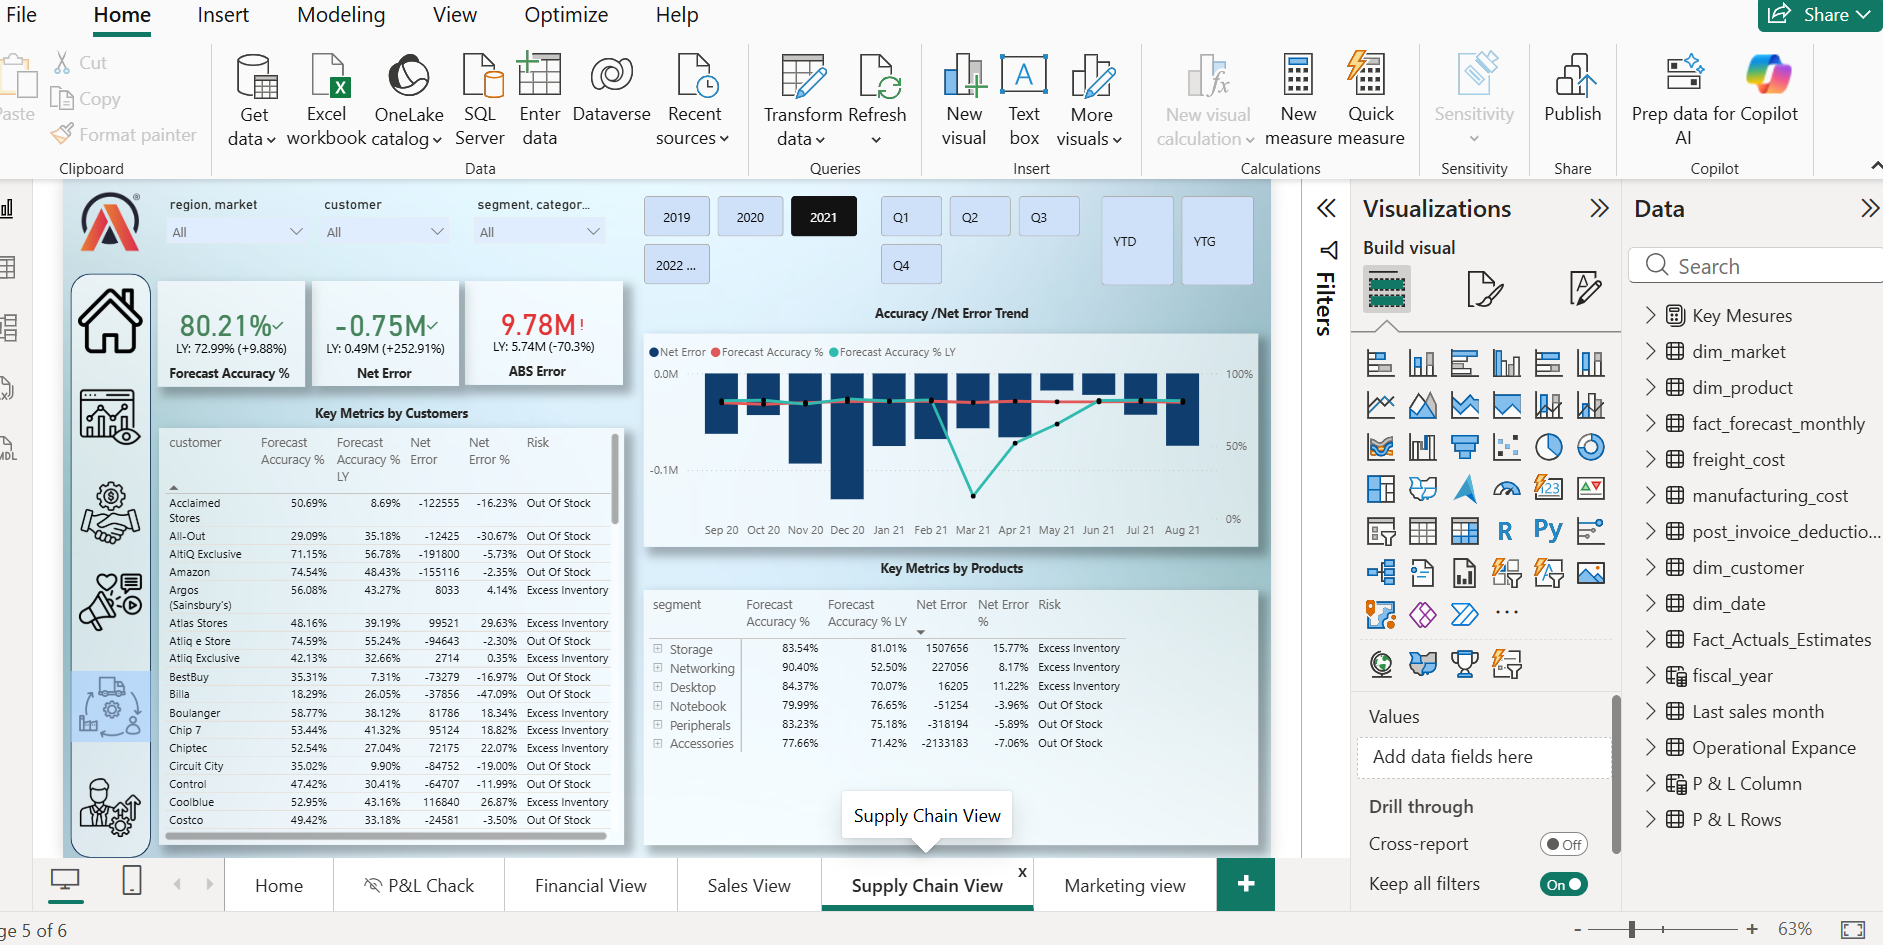

The dashboard page shown, as its layout file describes it:
{"tool":"powerbi","page":{"name":"Supply Chain View","canvas":[1280,720],"ordinal":4},"visuals":[{"type":"advancedSlicerVisual","fields":{"Values":["fiscal_year.FY Desc"]},"box":[610.8,12.7,237,105],"z":0},{"type":"advancedSlicerVisual","fields":{"Values":["dim_date.Quarter"]},"box":[861.7,12.7,223.3,105],"z":1000},{"type":"advancedSlicerVisual","fields":{"Values":["dim_date.YTD_YTG"]},"box":[1096.6,13.6,172.9,50.8],"z":2000},{"type":"textbox","box":[101.8,233.8,493.1,38.2],"z":3000},{"type":"slicer","fields":{"Values":[" dim_market.region"," dim_market.market"]},"box":[100.8,12.7,169.6,65.6],"z":4000},{"type":"slicer","fields":{"Values":[" dim_product.segment"," dim_product.category"," dim_product.product"]},"box":[425.6,12.7,158.4,65.6],"z":5000},{"type":"slicer","fields":{"Values":["dim_customer.customer"]},"box":[264,12.7,155.2,65.6],"z":6000},{"type":"kpi","fields":{"Goal":["Key Mesures.Forecast Accuracy % LY"],"Indicator":["Key Mesures.Forecast Accuracy %"],"TrendLine":[" freight_cost.fiscal_year"]},"box":[100,108.3,156.7,111.7],"z":7000},{"type":"textbox","box":[100.2,190.9,155.9,28.6],"z":8000},{"type":"kpi","fields":{"Goal":["Key Mesures.Net Error LY"],"Indicator":["Key Mesures.Net Error"],"TrendLine":[" freight_cost.fiscal_year"]},"box":[264,108.2,155.9,111.3],"z":9000},{"type":"kpi","fields":{"Goal":["Key Mesures.ABS error LY"],"Indicator":["Key Mesures.ABS Error"],"TrendLine":[" freight_cost.fiscal_year"]},"box":[426.3,108.2,167,109.8],"z":10000},{"type":"textbox","box":[263.3,191.7,156.7,28.3],"z":11000},{"type":"textbox","box":[426.7,190,156.7,28.3],"z":12000},{"type":"shape","box":[8.2,100,85.2,619.7],"z":13000},{"type":"image","box":[8.2,13.1,85.2,63.9],"z":14000},{"type":"image","box":[16.4,213.1,68.9,78.7],"z":15000},{"type":"image","box":[16.4,116.4,68.9,68.9],"z":16000},{"type":"image","box":[16.4,411.5,68.9,73.8],"z":17000},{"type":"image","box":[16.4,318,68.9,72.1],"z":18000},{"type":"image","box":[16.4,521.3,68.9,77],"z":19000},{"type":"image","box":[16.4,627.9,68.9,77],"z":20000},{"type":"shape","box":[8,521.7,85.2,75.4],"z":21000},{"type":"tableEx","fields":{"Values":["dim_customer.customer","Key Mesures.Forecast Accuracy %","Key Mesures.Forecast Accuracy % LY","Key Mesures.Net Error","Key Mesures.Net Error %","Key Mesures.Risk"]},"box":[101.8,264,493.1,442.2],"z":22000},{"type":"lineClusteredColumnComboChart","fields":{"Category":["dim_date.Month"],"Y":["Key Mesures.Net Error"],"Y2":["Key Mesures.Forecast Accuracy %","Key Mesures.Forecast Accuracy % LY"]},"box":[615.6,163.8,652.2,225.9],"z":23000},{"type":"pivotTable","fields":{"Rows":[" dim_product.segment"," dim_product.category"," dim_product.product"],"Values":["Key Mesures.Forecast Accuracy %","Key Mesures.Forecast Accuracy % LY","Key Mesures.Net Error","Key Mesures.Net Error %","Key Mesures.Risk"]},"box":[615.6,435.8,652.2,270.4],"z":24000},{"type":"textbox","box":[615.6,127.2,653.7,38.2],"z":25000},{"type":"textbox","box":[615.6,397.7,653.7,38.2],"z":26000}]}

Visuals, with their boxes on the page's 1280x720 design canvas (x1, y1, x2, y2). These are canvas units, not pixel positions in the 1883x945 screenshot, which may show the page scaled, cropped or inside an application window:
advancedSlicerVisual - fiscal_year.FY Desc: {"x1": 611, "y1": 13, "x2": 848, "y2": 118}
advancedSlicerVisual - dim_date.Quarter: {"x1": 862, "y1": 13, "x2": 1085, "y2": 118}
advancedSlicerVisual - dim_date.YTD_YTG: {"x1": 1097, "y1": 14, "x2": 1270, "y2": 64}
textbox: {"x1": 102, "y1": 234, "x2": 595, "y2": 272}
slicer -  dim_market.region x  dim_market.market: {"x1": 101, "y1": 13, "x2": 270, "y2": 78}
slicer -  dim_product.segment x  dim_product.category: {"x1": 426, "y1": 13, "x2": 584, "y2": 78}
slicer - dim_customer.customer: {"x1": 264, "y1": 13, "x2": 419, "y2": 78}
kpi - Key Mesures.Forecast Accuracy % LY x Key Mesures.Forecast Accuracy %: {"x1": 100, "y1": 108, "x2": 257, "y2": 220}
textbox: {"x1": 100, "y1": 191, "x2": 256, "y2": 220}
kpi - Key Mesures.Net Error LY x Key Mesures.Net Error: {"x1": 264, "y1": 108, "x2": 420, "y2": 220}
kpi - Key Mesures.ABS error LY x Key Mesures.ABS Error: {"x1": 426, "y1": 108, "x2": 593, "y2": 218}
textbox: {"x1": 263, "y1": 192, "x2": 420, "y2": 220}
textbox: {"x1": 427, "y1": 190, "x2": 583, "y2": 218}
shape: {"x1": 8, "y1": 100, "x2": 93, "y2": 720}
image: {"x1": 8, "y1": 13, "x2": 93, "y2": 77}
image: {"x1": 16, "y1": 213, "x2": 85, "y2": 292}
image: {"x1": 16, "y1": 116, "x2": 85, "y2": 185}
image: {"x1": 16, "y1": 412, "x2": 85, "y2": 485}
image: {"x1": 16, "y1": 318, "x2": 85, "y2": 390}
image: {"x1": 16, "y1": 521, "x2": 85, "y2": 598}
image: {"x1": 16, "y1": 628, "x2": 85, "y2": 705}
shape: {"x1": 8, "y1": 522, "x2": 93, "y2": 597}
tableEx - dim_customer.customer x Key Mesures.Forecast Accuracy %: {"x1": 102, "y1": 264, "x2": 595, "y2": 706}
lineClusteredColumnComboChart - dim_date.Month x Key Mesures.Net Error: {"x1": 616, "y1": 164, "x2": 1268, "y2": 390}
pivotTable -  dim_product.segment x  dim_product.category: {"x1": 616, "y1": 436, "x2": 1268, "y2": 706}
textbox: {"x1": 616, "y1": 127, "x2": 1269, "y2": 165}
textbox: {"x1": 616, "y1": 398, "x2": 1269, "y2": 436}
